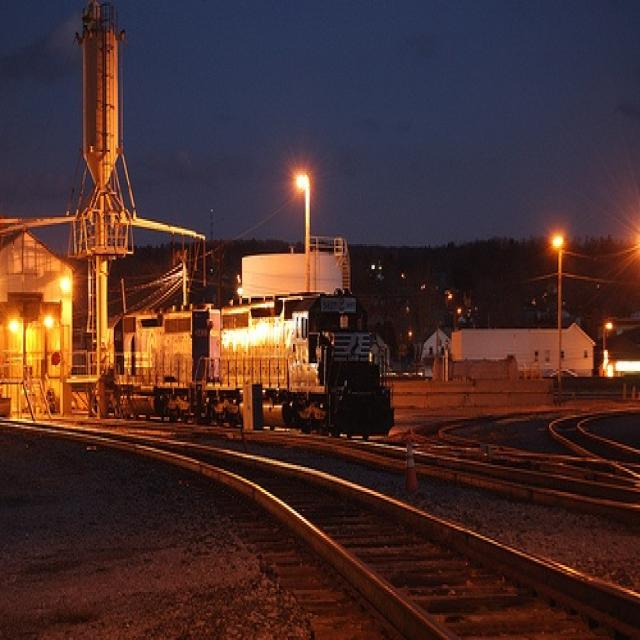train: (109, 293, 395, 441)
